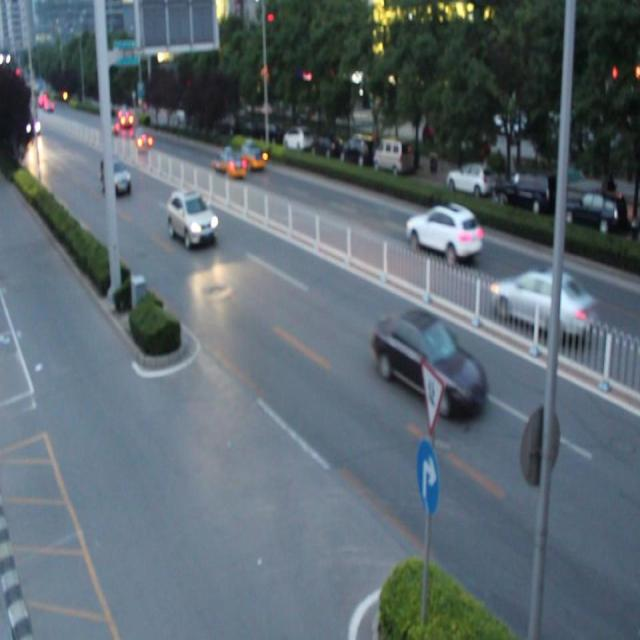car: (370, 308, 484, 417), (489, 270, 596, 339), (407, 204, 481, 259), (166, 188, 217, 243), (211, 146, 247, 178), (234, 139, 268, 172), (100, 159, 130, 195)
